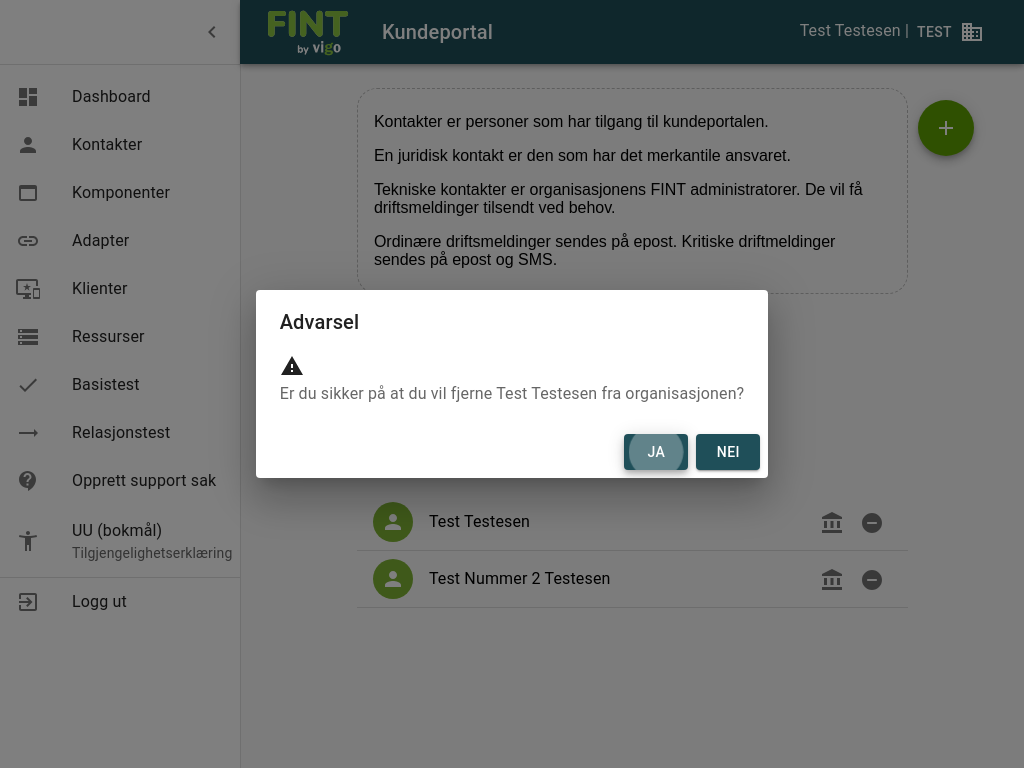
Testing contacts page › Confirming removing user should give a popup that contains confirmation
Step 1. Click the button with id "confirm" → (656, 453), box top-left (624, 434), bottom-right (688, 471)
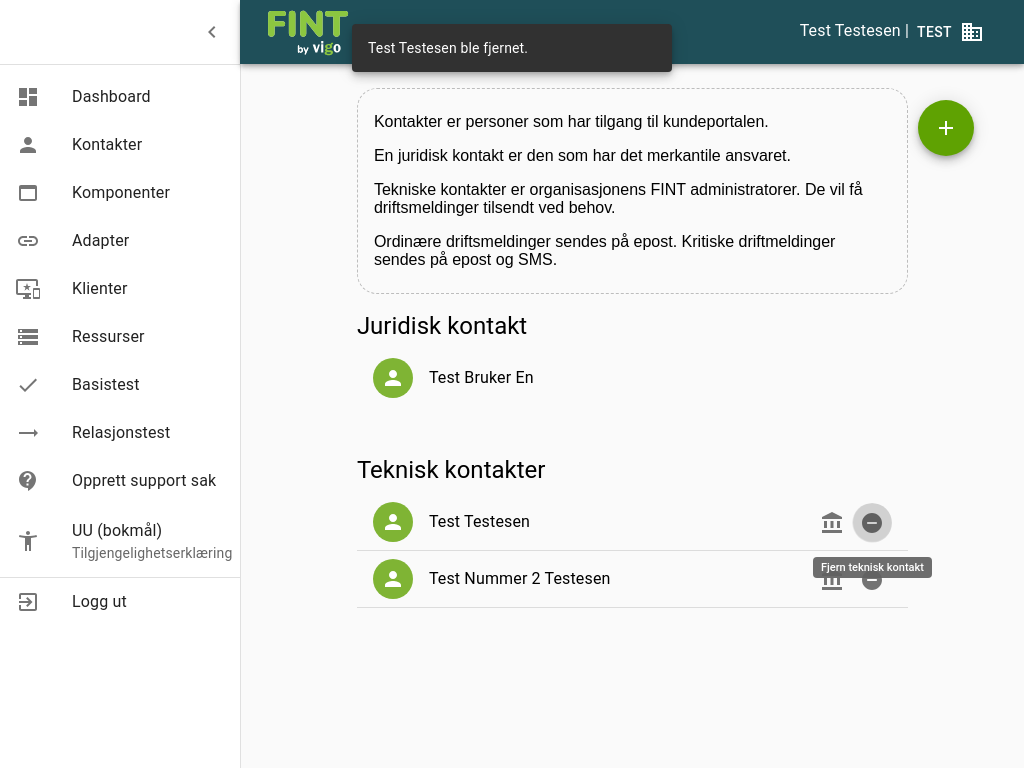
Now the text "Test Testesen" is shown, box top-left (368, 40), bottom-right (528, 56)
